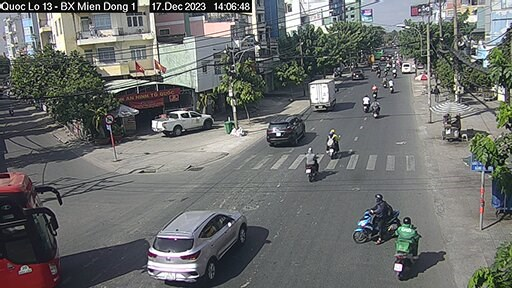car: (145, 203, 250, 286), (151, 108, 218, 136), (265, 112, 311, 149), (350, 67, 366, 83), (399, 59, 413, 76)
motorbike: (353, 197, 399, 248), (388, 217, 423, 280), (301, 146, 320, 183), (327, 129, 341, 160), (369, 105, 383, 117), (363, 97, 372, 115), (387, 79, 397, 95), (371, 83, 380, 99)
truck: (307, 79, 336, 112)
